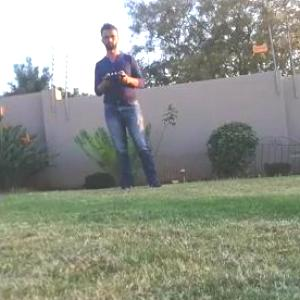follow: (92, 15, 169, 194)
